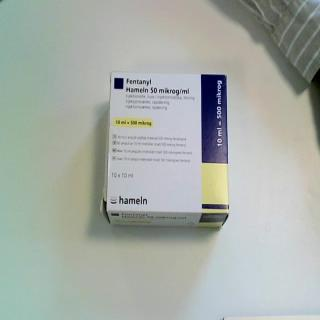fentanyl50ug_ml: (99, 69, 231, 233)
